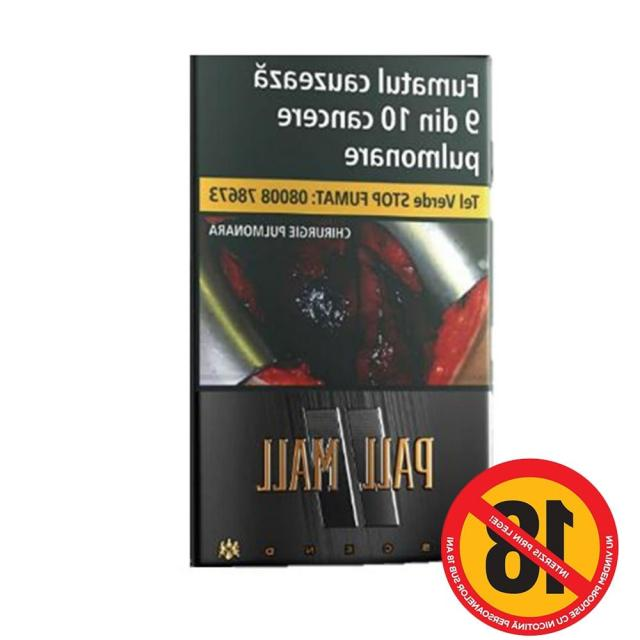pallmall: (178, 51, 501, 566)
